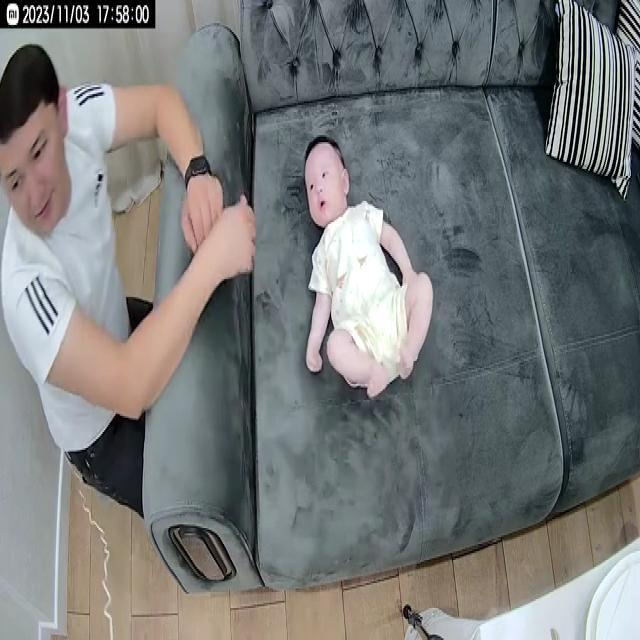baby: (302, 138, 438, 404)
